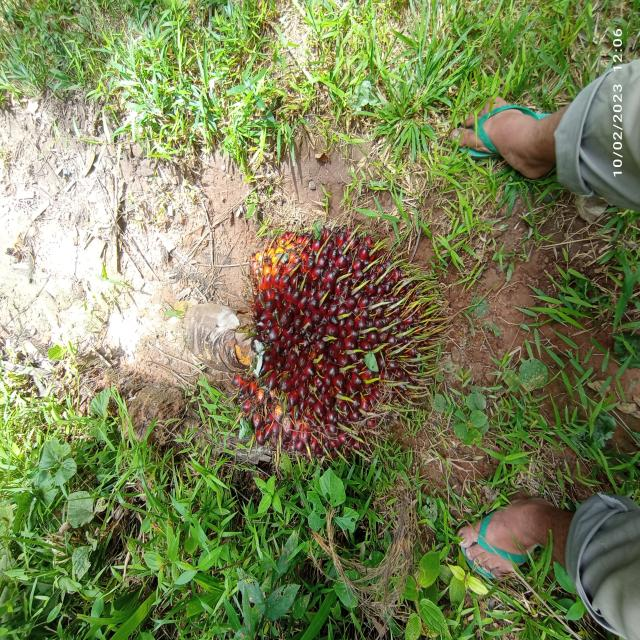fraksi 1: (192, 188, 452, 482)
